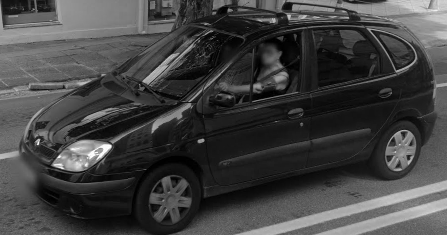car: (20, 10, 437, 233)
